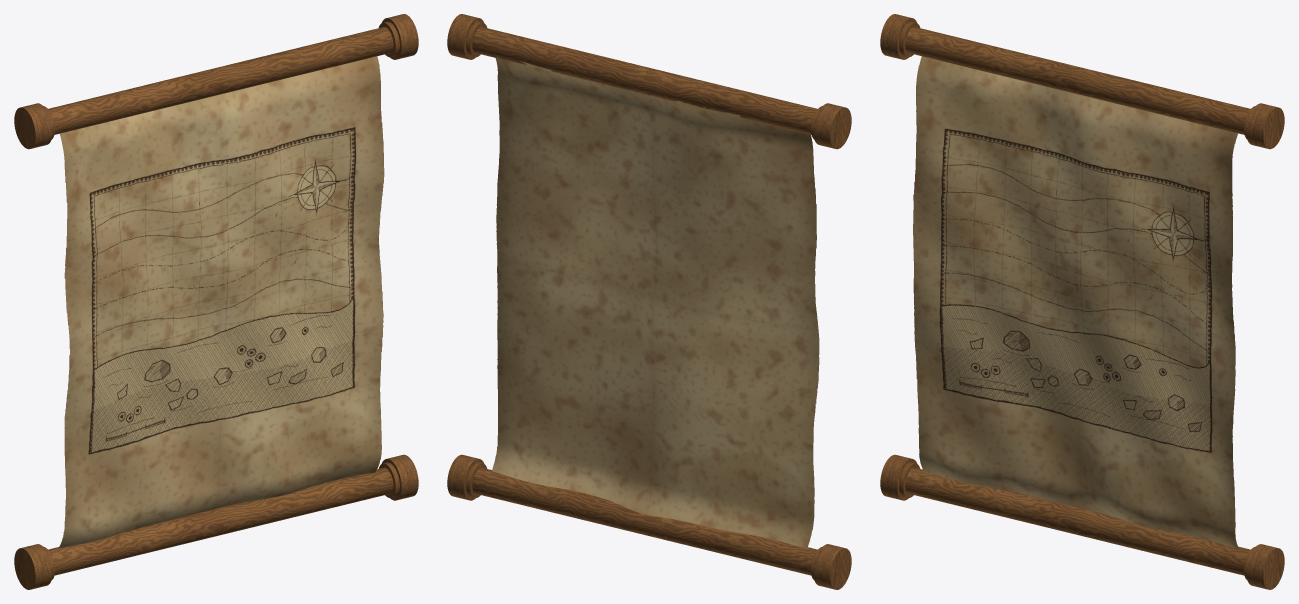
Rendered from pergamino 2.glb.
3 views of the same model, side by side, from view 1: azimuth 30°, elevation 25°; view 2: azimuth 150°, elevation 25°; view 3: azimuth 330°, elevation 25° (orthographic).
Visible parts, largest first — view 1: Hoja_frente, Rodillo_superior, Rodillo_inferior; view 2: Hoja_reverso, Rodillo_superior, Rodillo_inferior; view 3: Hoja_frente, Rodillo_superior, Rodillo_inferior.
Boxes of the visible parts, x1,y1,x2,y2 form: Hoja_frente: (58,56,384,548); Rodillo_superior: (14,14,418,149); Rodillo_inferior: (14,454,418,589); Hoja_reverso: (492,58,819,548); Rodillo_superior: (447,14,851,149); Rodillo_inferior: (447,454,851,589); Hoja_frente: (913,56,1238,549); Rodillo_superior: (880,14,1284,149); Rodillo_inferior: (880,454,1284,589).
Size of the model in its own units: 0.362 by 0.433 by 0.0357.
Materials: 3 (3 with a texture image).
